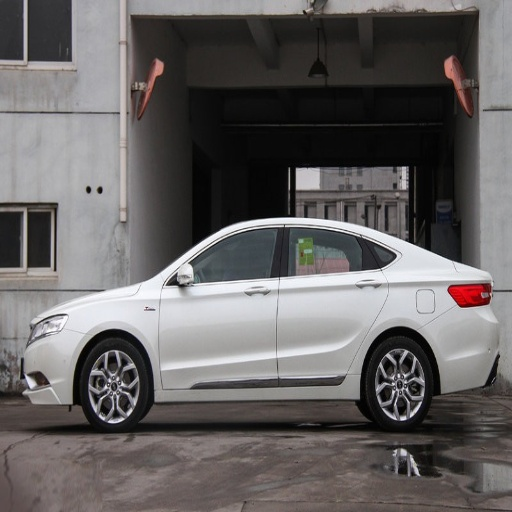back_left_door: (277, 224, 387, 382)
front_left_door: (163, 225, 284, 388)
